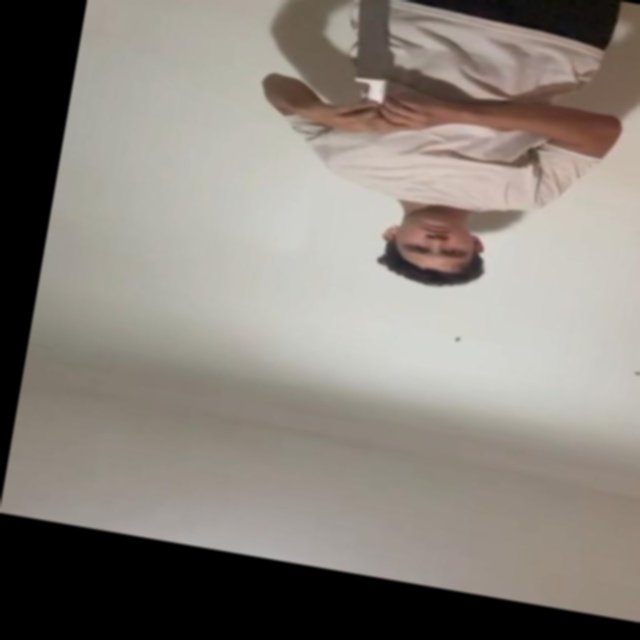Sharp-Object: (342, 0, 407, 83)
